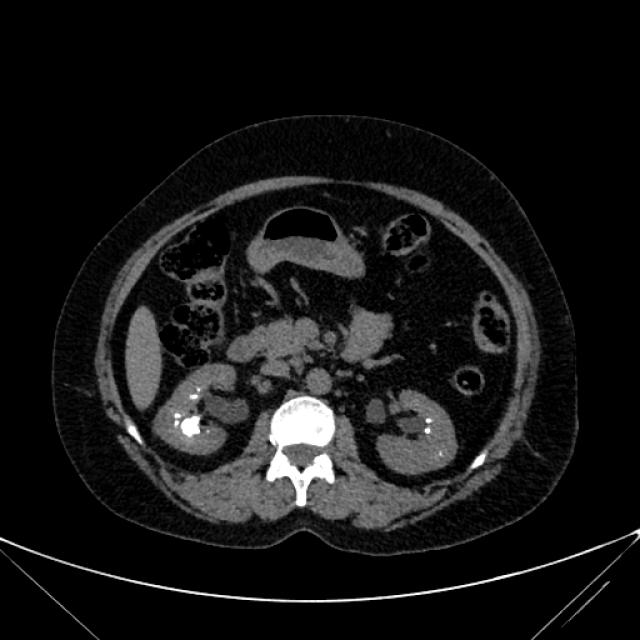kidney: (164, 370, 231, 448), (383, 399, 447, 470)
stone: (184, 419, 199, 434), (190, 395, 198, 399), (174, 413, 181, 417), (426, 428, 430, 434), (426, 419, 431, 422), (174, 422, 178, 425), (198, 387, 200, 391), (441, 454, 442, 456)
